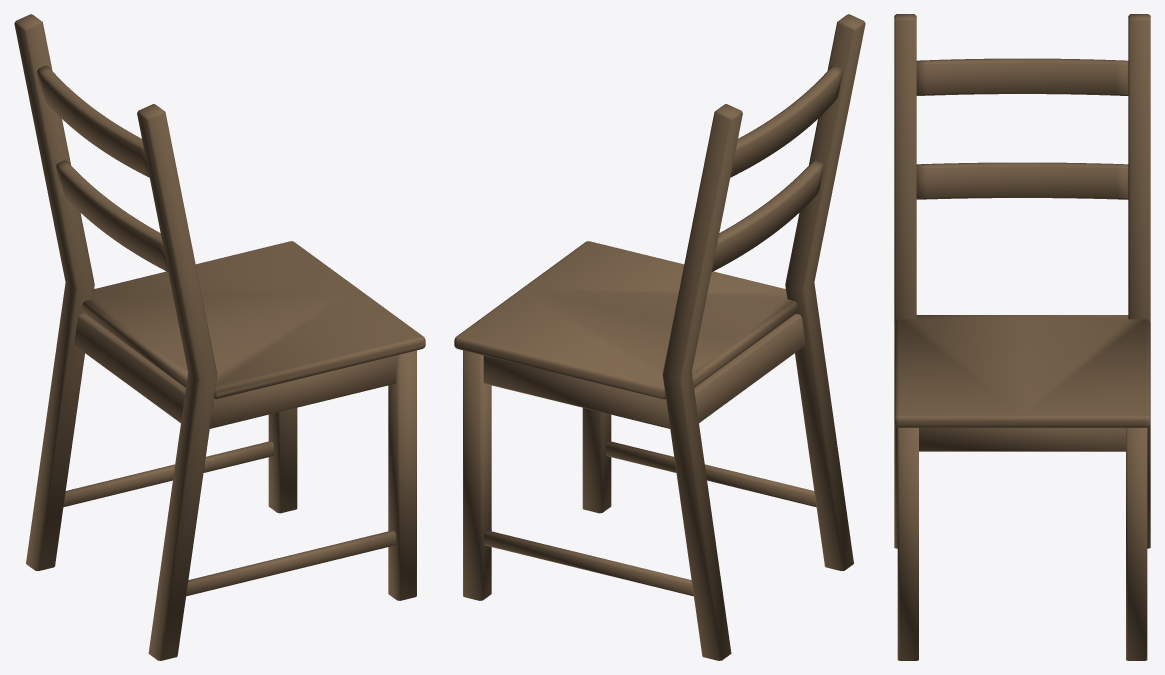
The model's file is cadeira.fbx.
3 renders of one model, left to right at view 1: azimuth 30°, elevation 25°; view 2: azimuth 150°, elevation 25°; view 3: azimuth 270°, elevation 25°, orthographic. The views are drawn at different scales.
Visible parts, largest first — view 1: cadeira_pernas, assento; view 2: cadeira_pernas, assento; view 3: cadeira_pernas, assento.
Boxes of the visible parts, <box> form: cadeira_pernas: <box>14,14,416,660</box>; assento: <box>82,241,425,399</box>; cadeira_pernas: <box>463,14,865,660</box>; assento: <box>454,241,797,399</box>; cadeira_pernas: <box>894,14,1150,660</box>; assento: <box>894,315,1150,427</box>.
Bounding box in the file's own units: 1.43 × 2.68 × 1.19.
